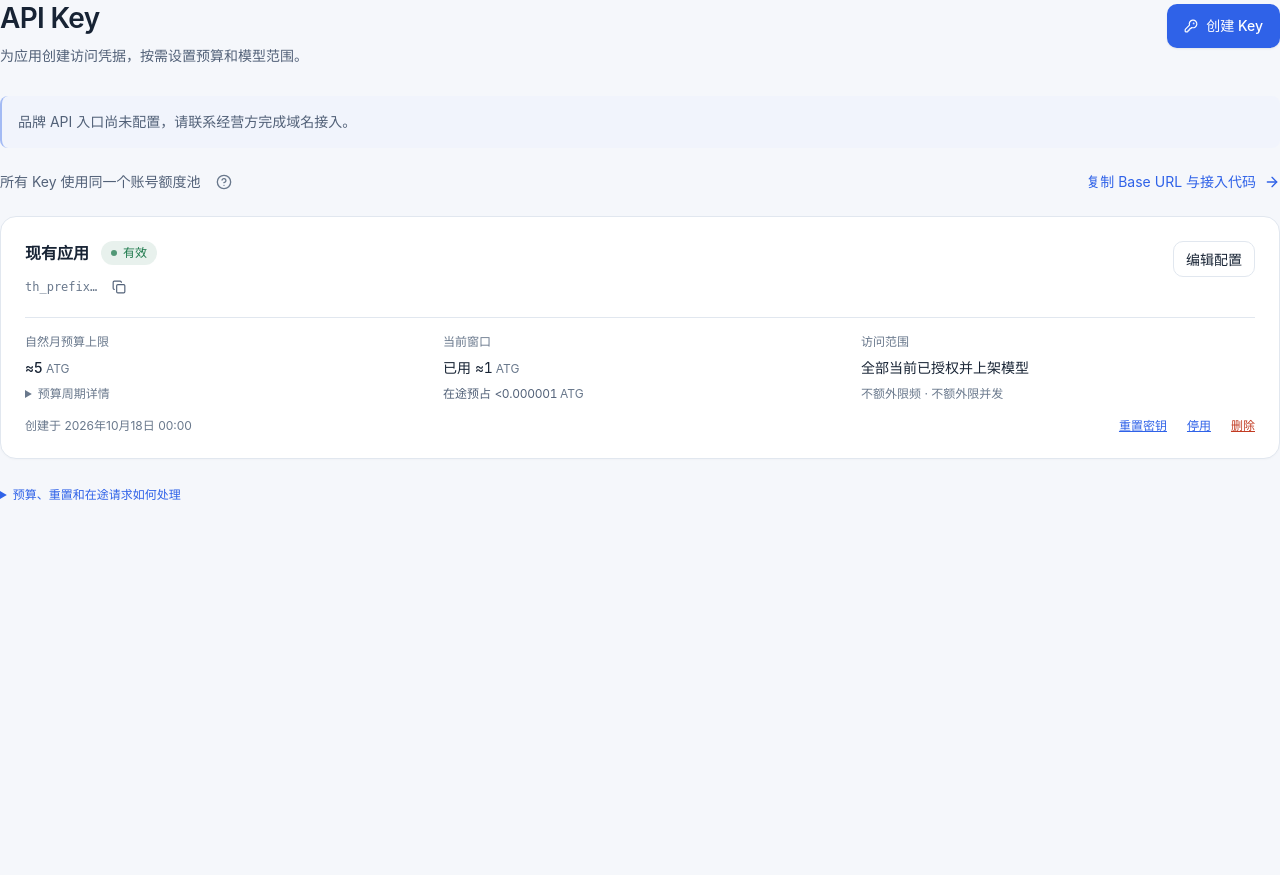
Test: retains unknown Key creation through disabled close and edit actions and retries the exact request
Expected: the heading "现有应用" is shown, [25,241,89,265]
Click the button "创建 Key" at (1224, 26), box [1167,4,1279,48]
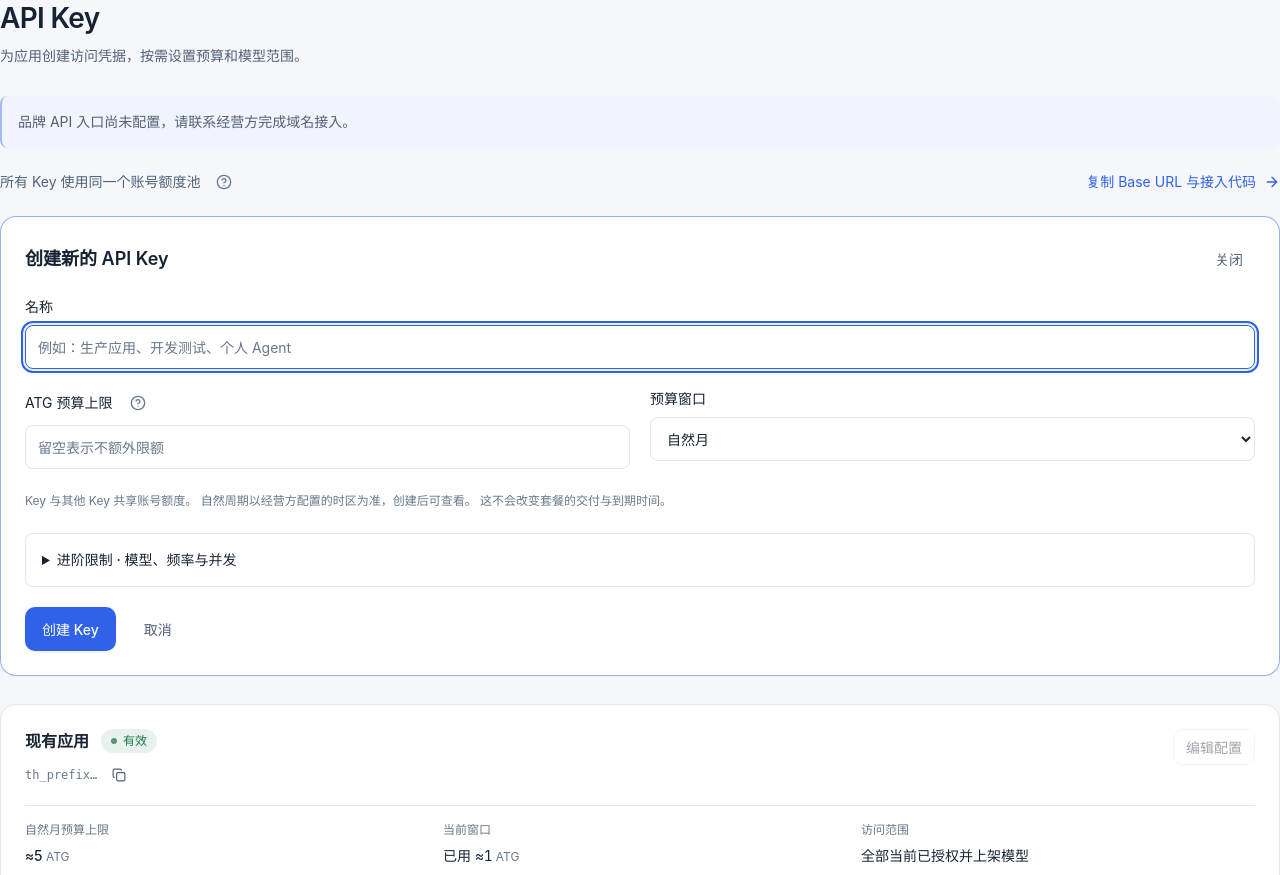
Type "新应用" into the field labelled "名称" at (640, 347), box [25,325,1255,369]
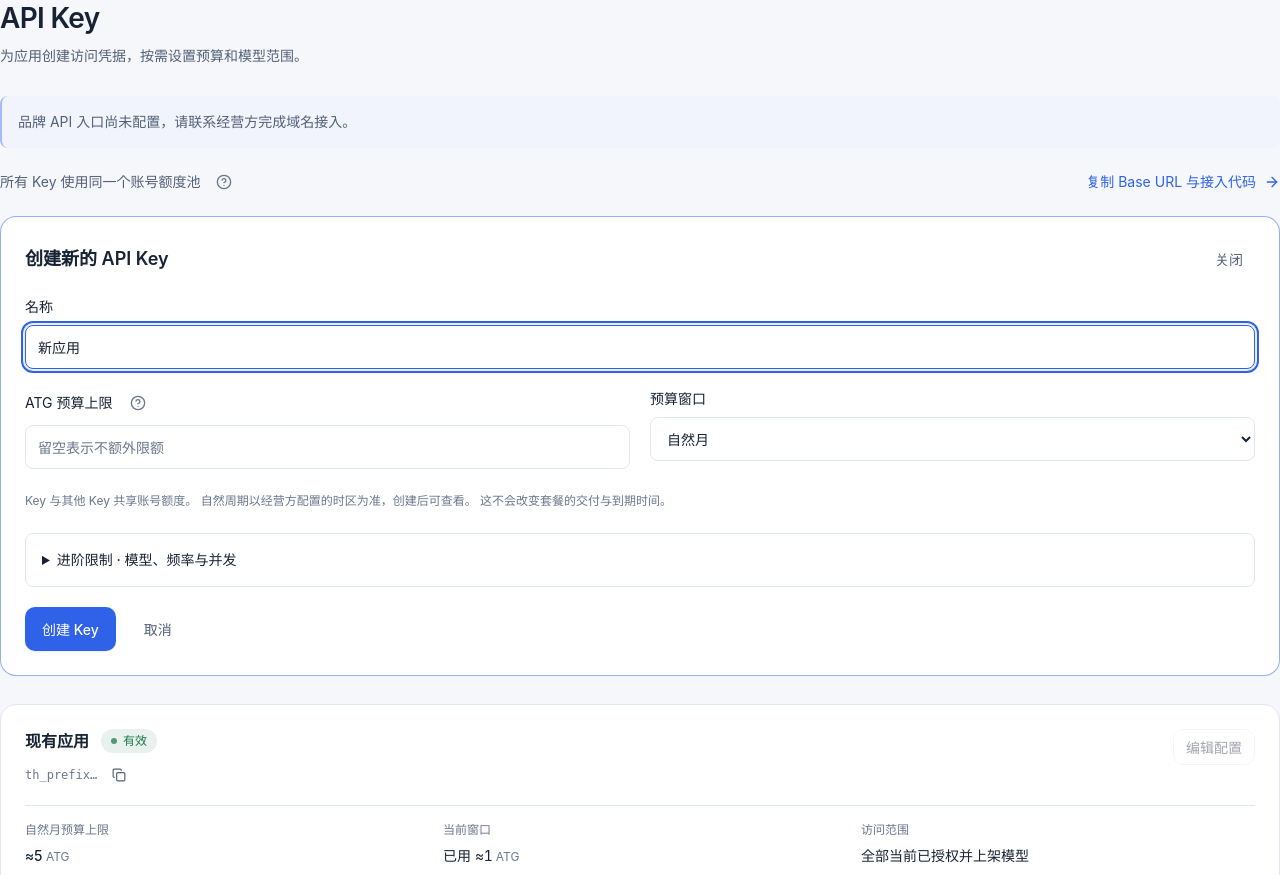
Click the button "创建 Key" at (70, 629), box [25,607,116,651]
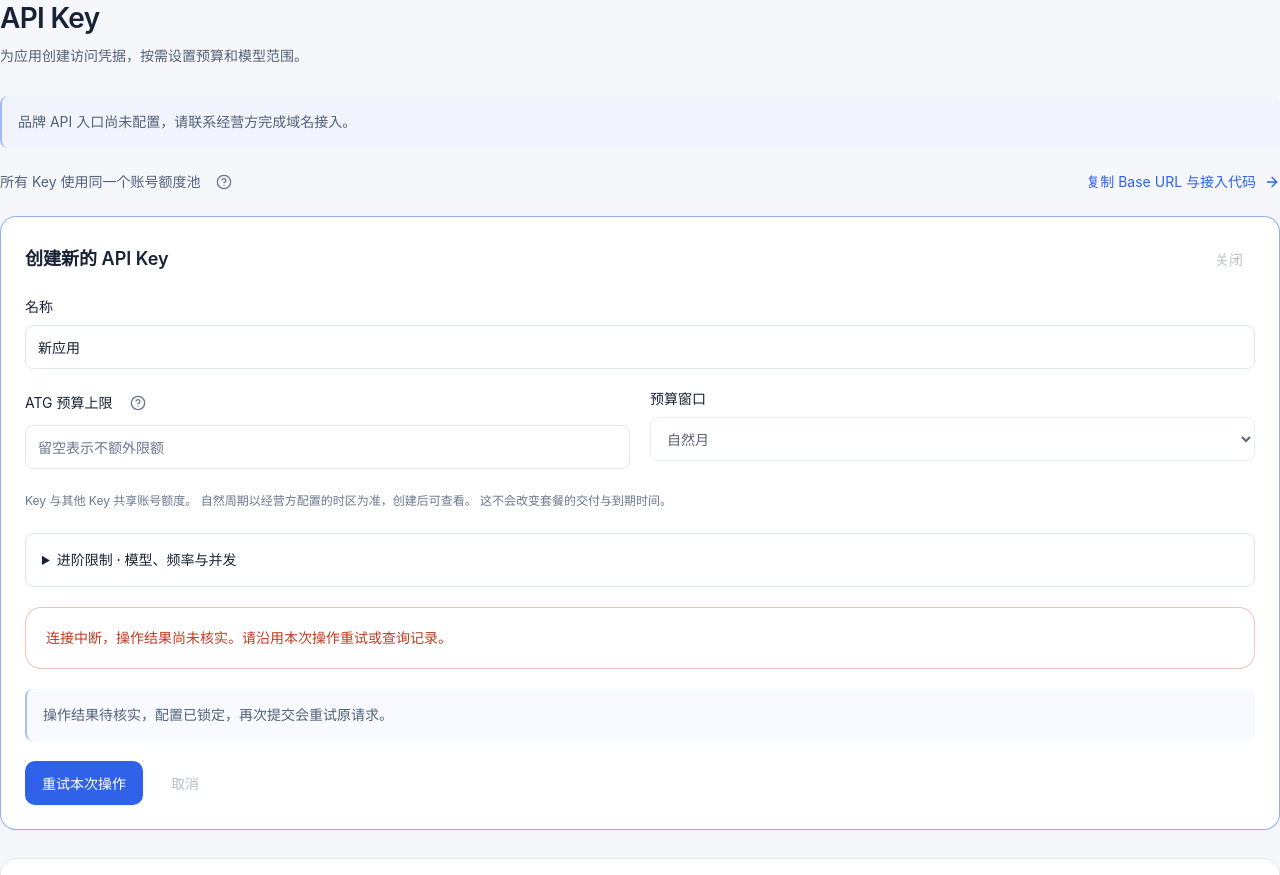
Expected: the button "重试本次操作" is shown
Expected: the button "关闭" is disabled, [1203,241,1255,277]
Click the button "重试本次操作" at (84, 783), box [25,761,143,805]
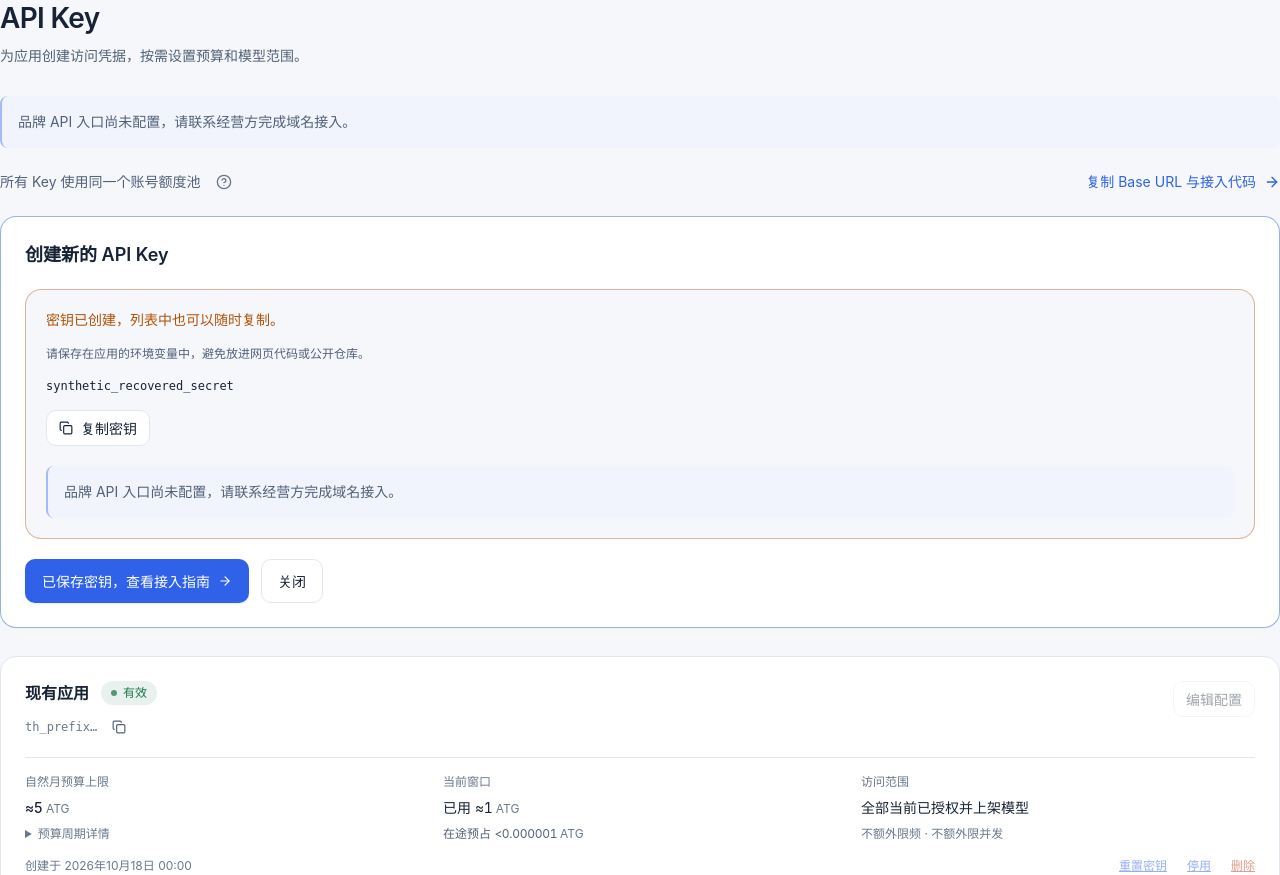
Expected: the text "synthetic_recovered_secret" is shown, [46,379,234,393]
